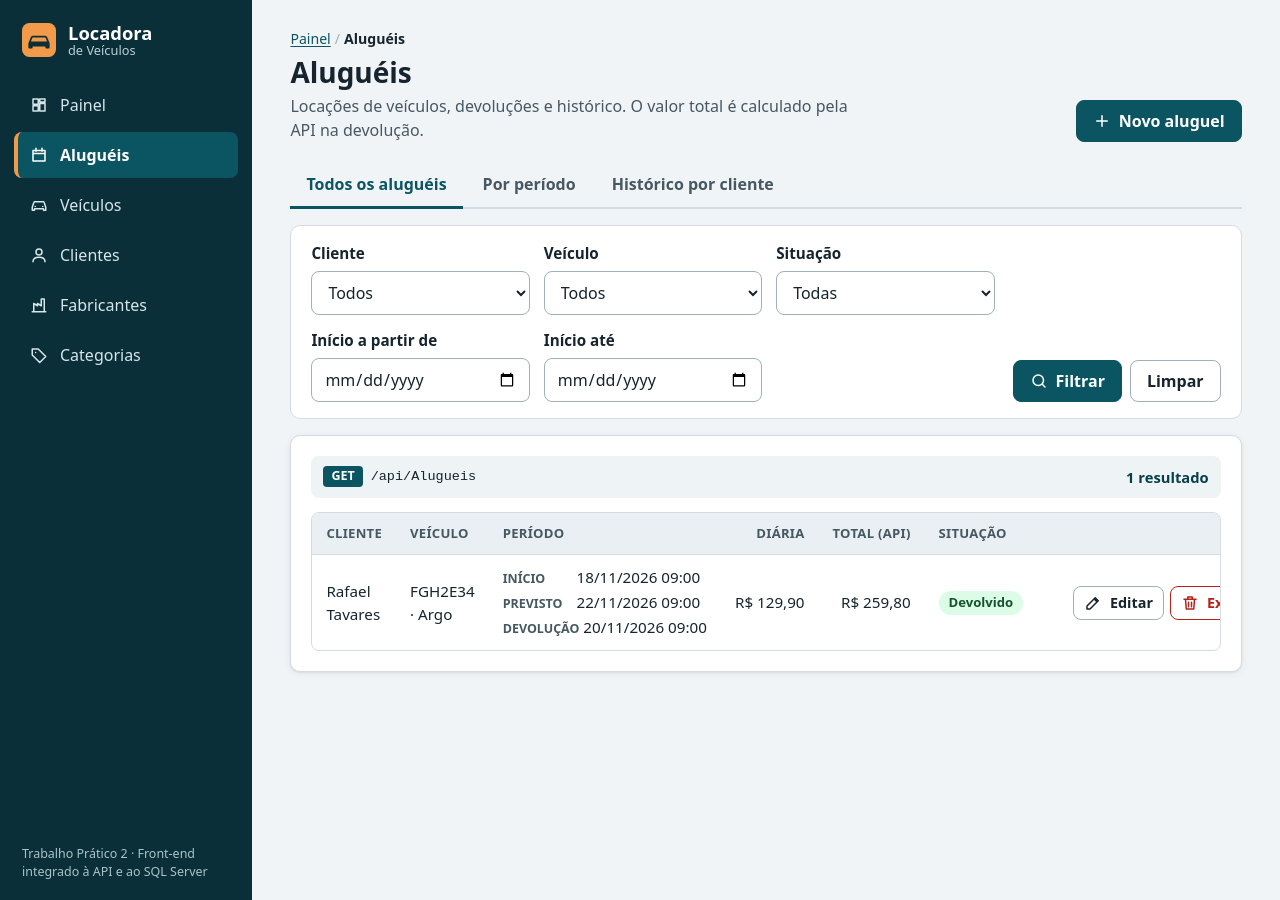
Test: Aluguéis — listagem e consultas › exclui um aluguel após confirmação
Click the button with aria-label "Excluir aluguel 11".
click(1218, 603)  # box [1170,586,1266,620]
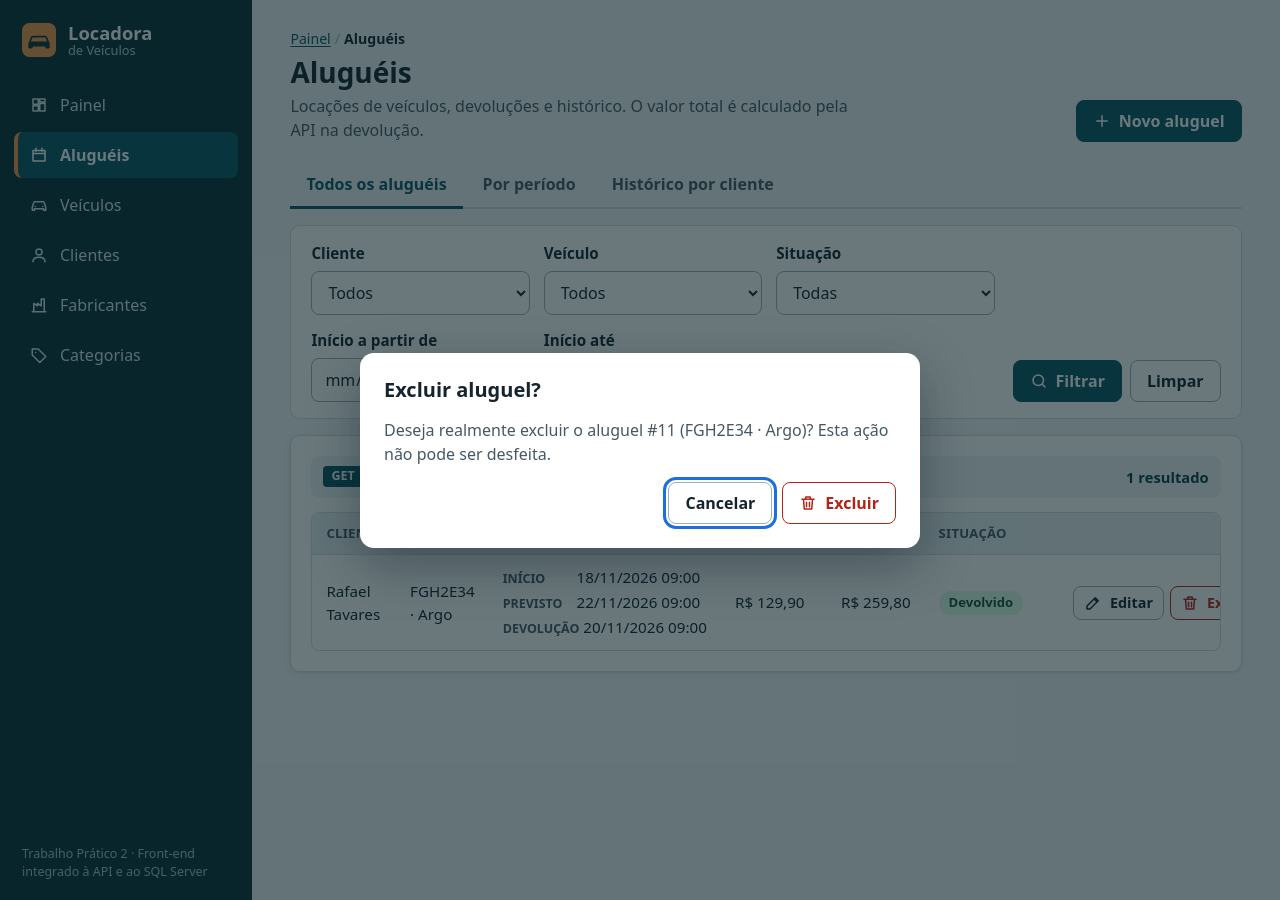
Click the button "Excluir".
click(839, 502)  # box [782,482,896,524]
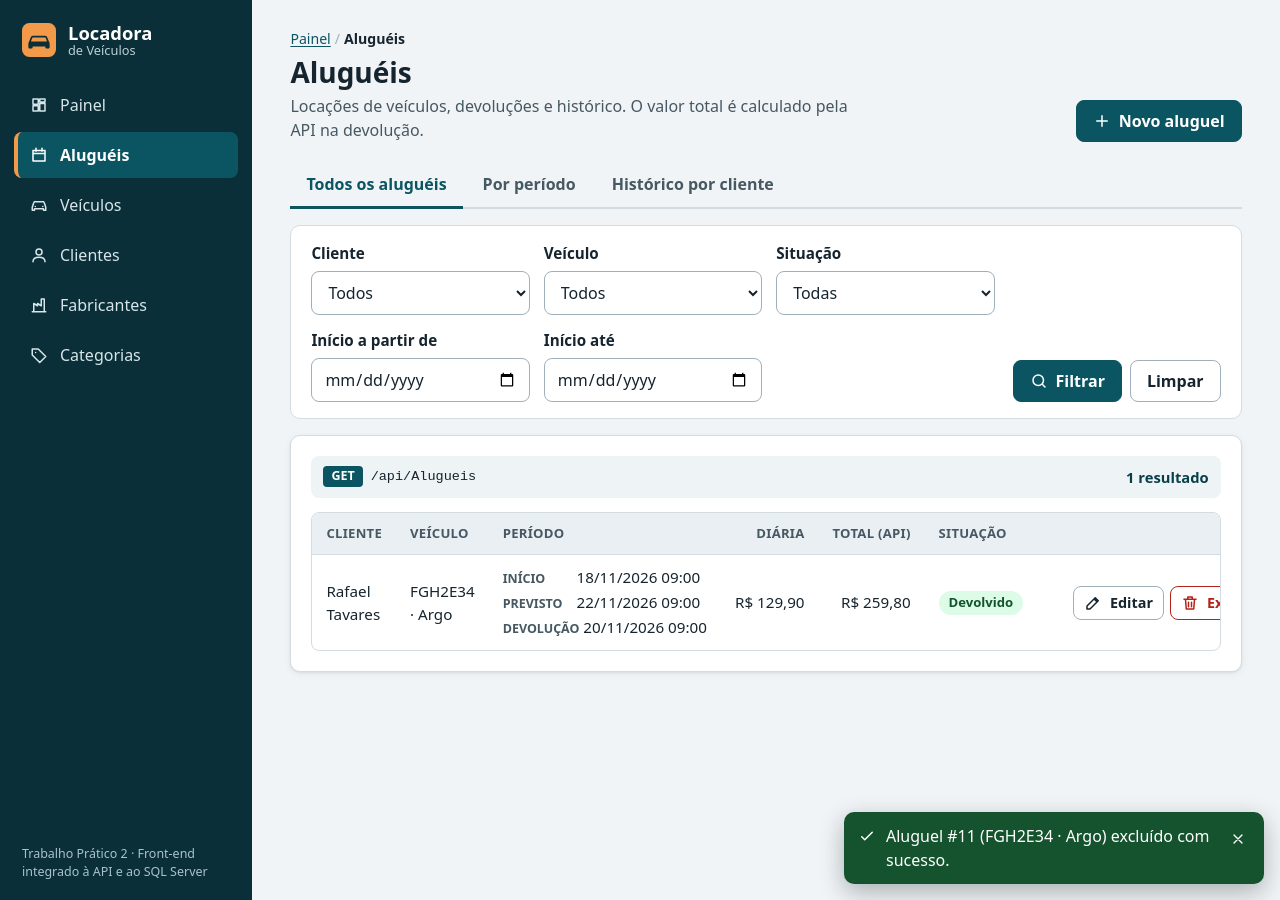
Now the text "Aluguel #11 (FGH2E34 · Argo) excluído com sucesso." is shown, box [886,824,1216,872]
